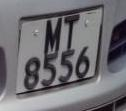5: (40, 50, 59, 88), (59, 49, 75, 83)
6: (75, 44, 91, 81)
8: (21, 53, 42, 92)
M: (42, 17, 65, 52)
T: (62, 12, 80, 49)
